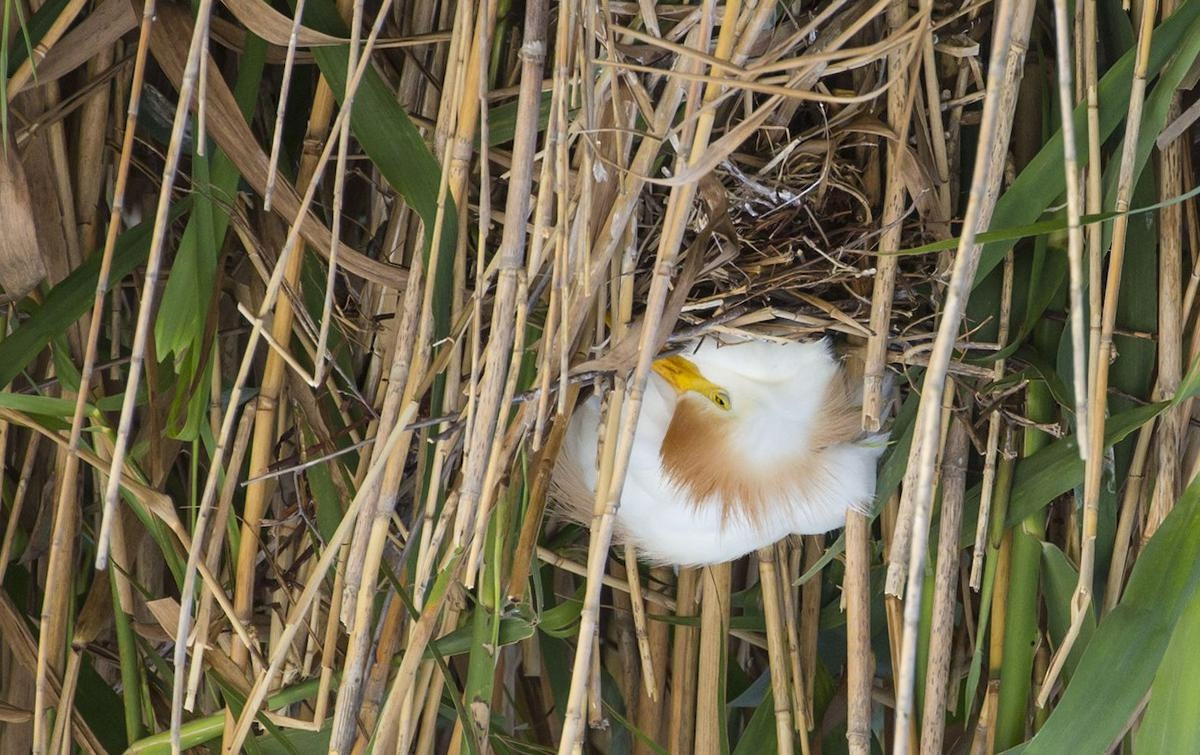egret: (540, 329, 880, 578)
